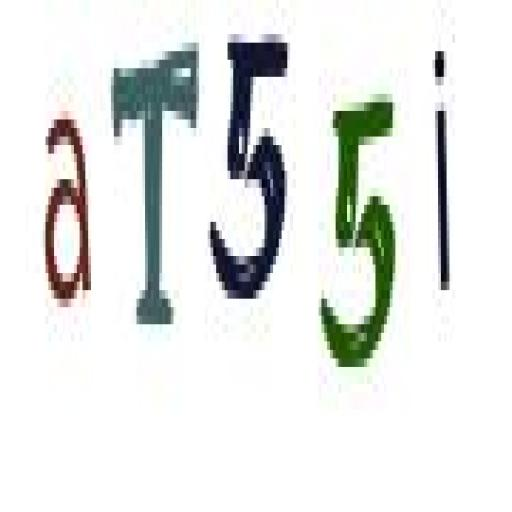5: (210, 23, 290, 316), (321, 87, 399, 383)
T: (108, 39, 200, 346)
a: (42, 104, 96, 328)
i: (426, 34, 456, 304)
